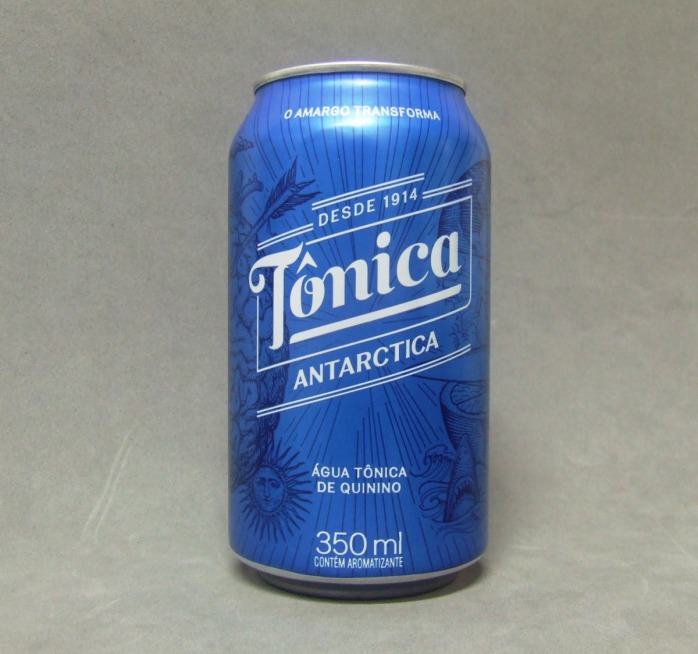tonica: (194, 54, 517, 603)
